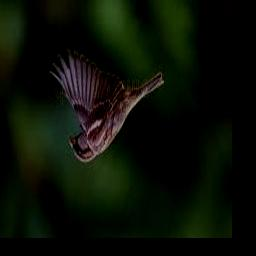Sparrow: (49, 49, 163, 164)
